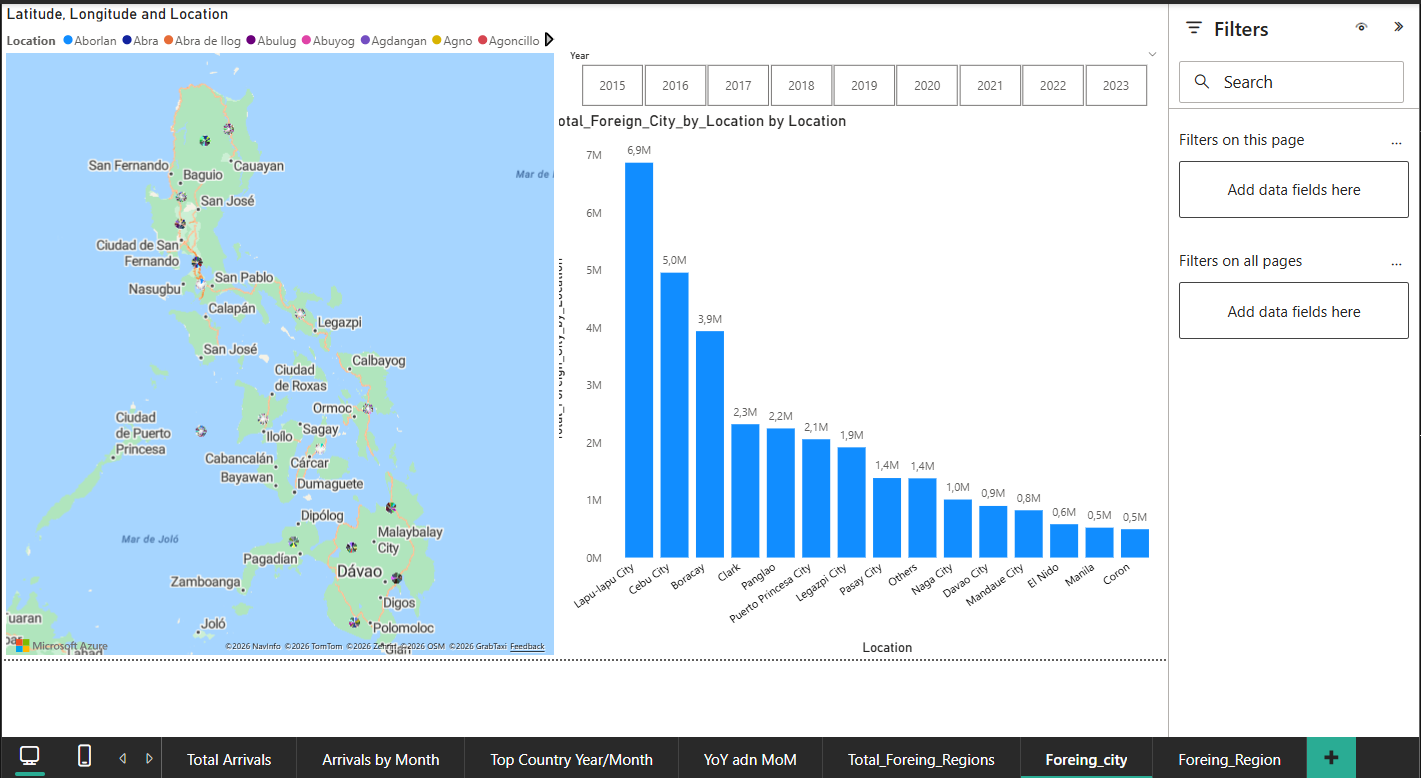

The dashboard page shown, as its layout file describes it:
{"tool":"powerbi","page":{"name":"Página 2","canvas":[1280,720],"ordinal":5},"visuals":[{"type":"clusteredColumnChart","fields":{"Y":["Measures (2).Total_Foreign_City_by_Location"],"Category":["Sheet1.Location"]},"box":[596.7,118.3,683.3,601.7],"z":0},{"type":"azureMap","fields":{"Y":["Sheet1.Latitude"],"X":["Sheet1.Longitude"],"Series":["Sheet1.Location"]},"box":[0,0,610.6,720.4],"z":1000},{"type":"slicer","fields":{"Values":["Sheet1.Year"]},"box":[610,45,670,73.3],"z":2000}]}

Visuals, with their boxes on the page's 1280x720 design canvas (x1, y1, x2, y2). These are canvas units, not pixel positions in the 1421x778 screenshot, which may show the page scaled, cropped or inside an application window:
clusteredColumnChart - Measures (2).Total_Foreign_City_by_Location x Sheet1.Location: <region>597, 118, 1280, 720</region>
azureMap - Sheet1.Latitude x Sheet1.Longitude: <region>0, 0, 611, 720</region>
slicer - Sheet1.Year: <region>610, 45, 1280, 118</region>
